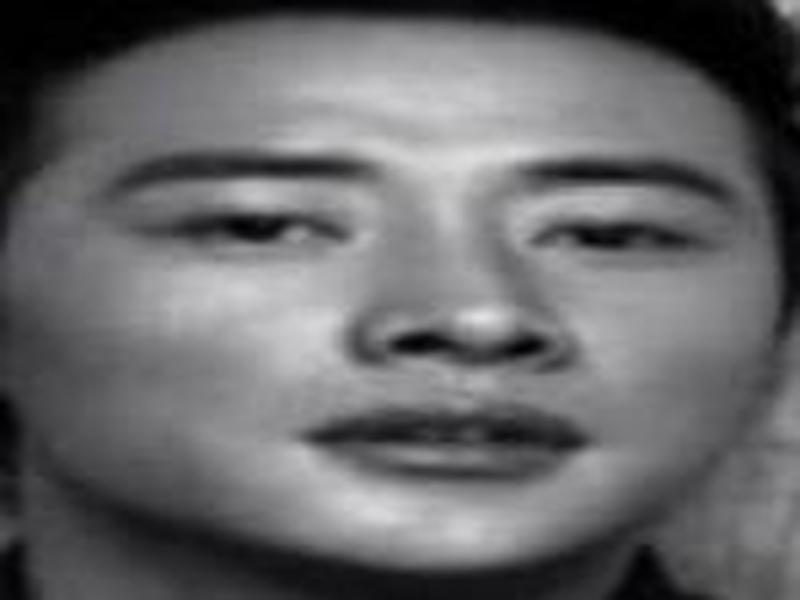without_mask: (21, 27, 774, 561)
